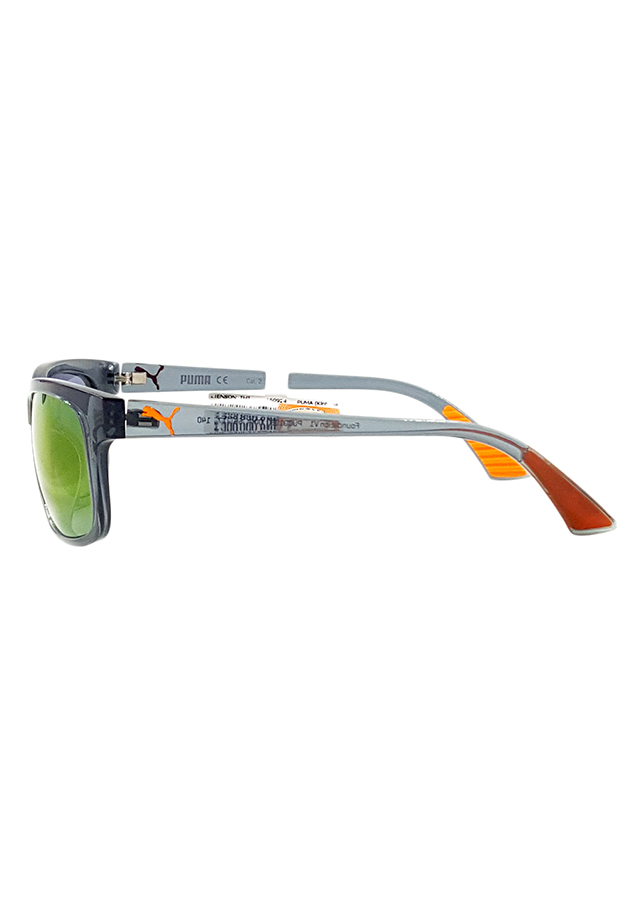Puma: (125, 360, 215, 396), (133, 397, 185, 441)
